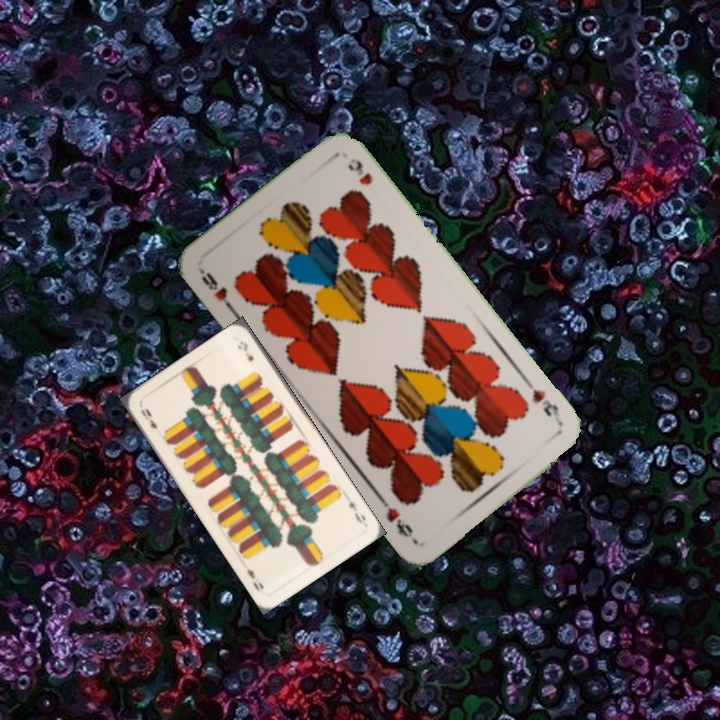E9: (344, 497, 368, 526), (136, 404, 160, 432)
H9: (196, 265, 239, 316), (522, 377, 565, 428)
